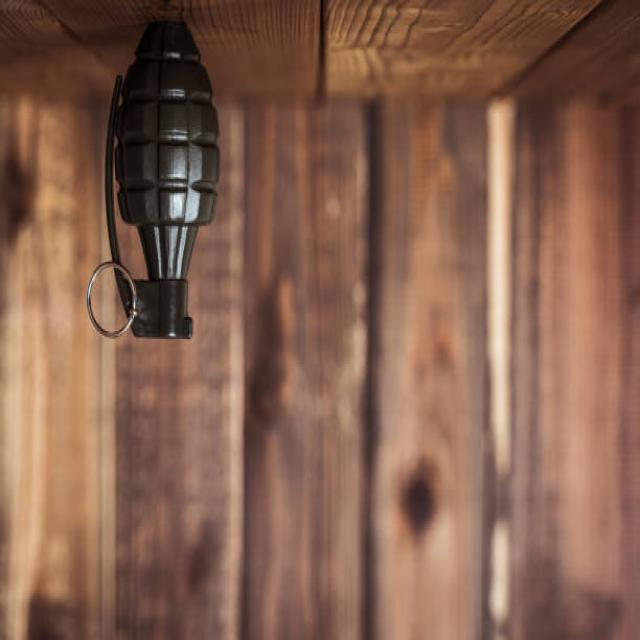grenade: (82, 11, 225, 347)
